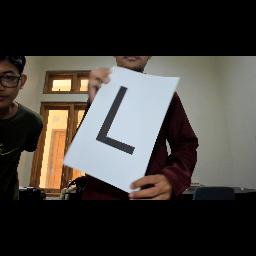l: (88, 80, 144, 158)
